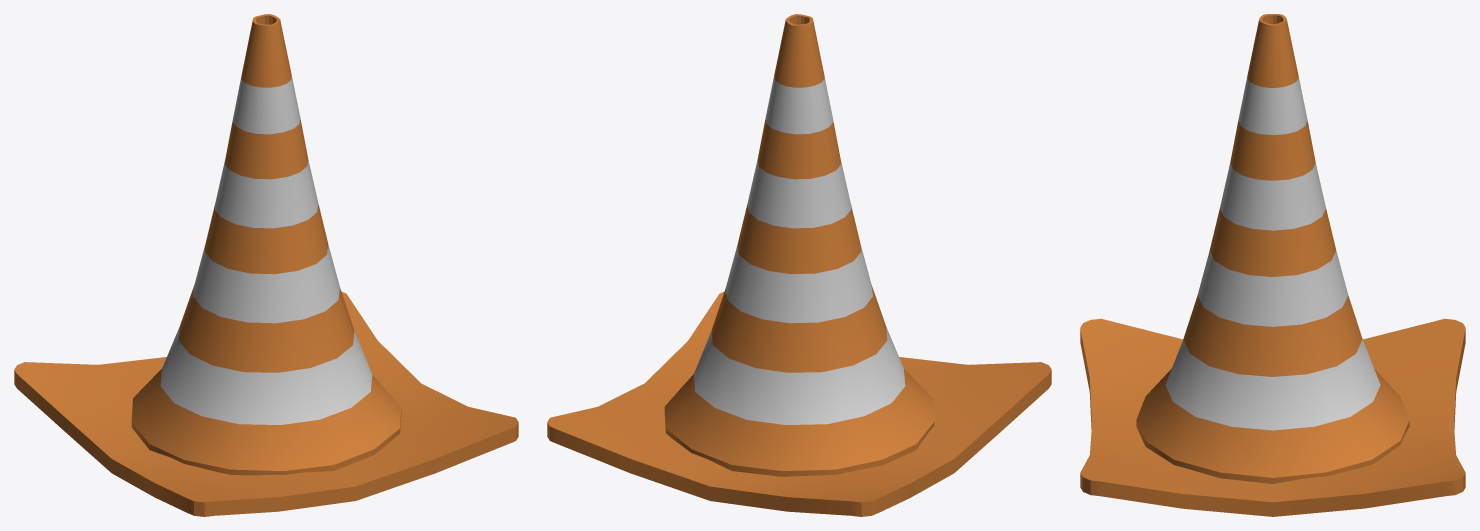
Rendered from Pylon.fbx.
The picture shows the model from 3 angles, left to right: view 1: azimuth 30°, elevation 25°; view 2: azimuth 150°, elevation 25°; view 3: azimuth 270°, elevation 25°; orthographic projection.
Visible parts, largest first — view 1: Circle; view 2: Circle; view 3: Circle.
Part boxes in pixels (<box>): Circle: <box>14,14,518,516</box>; Circle: <box>547,14,1051,516</box>; Circle: <box>1080,14,1465,516</box>.
Size of the model in its own units: 217 by 262 by 217.
